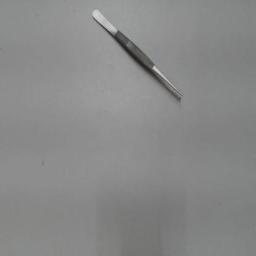Gillies Toothed Dissector: (86, 0, 186, 104)
